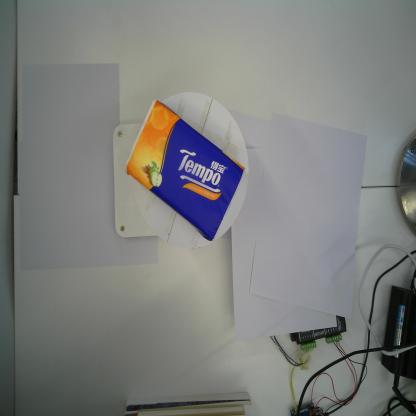Tissue: (123, 100, 246, 245)
